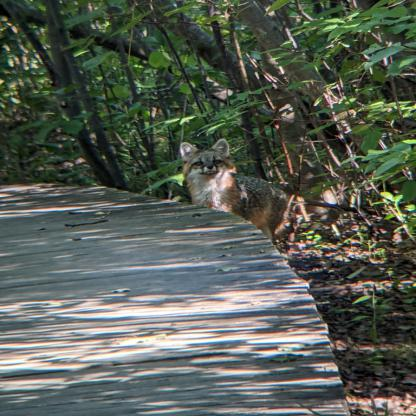zorro: (171, 139, 322, 248)
